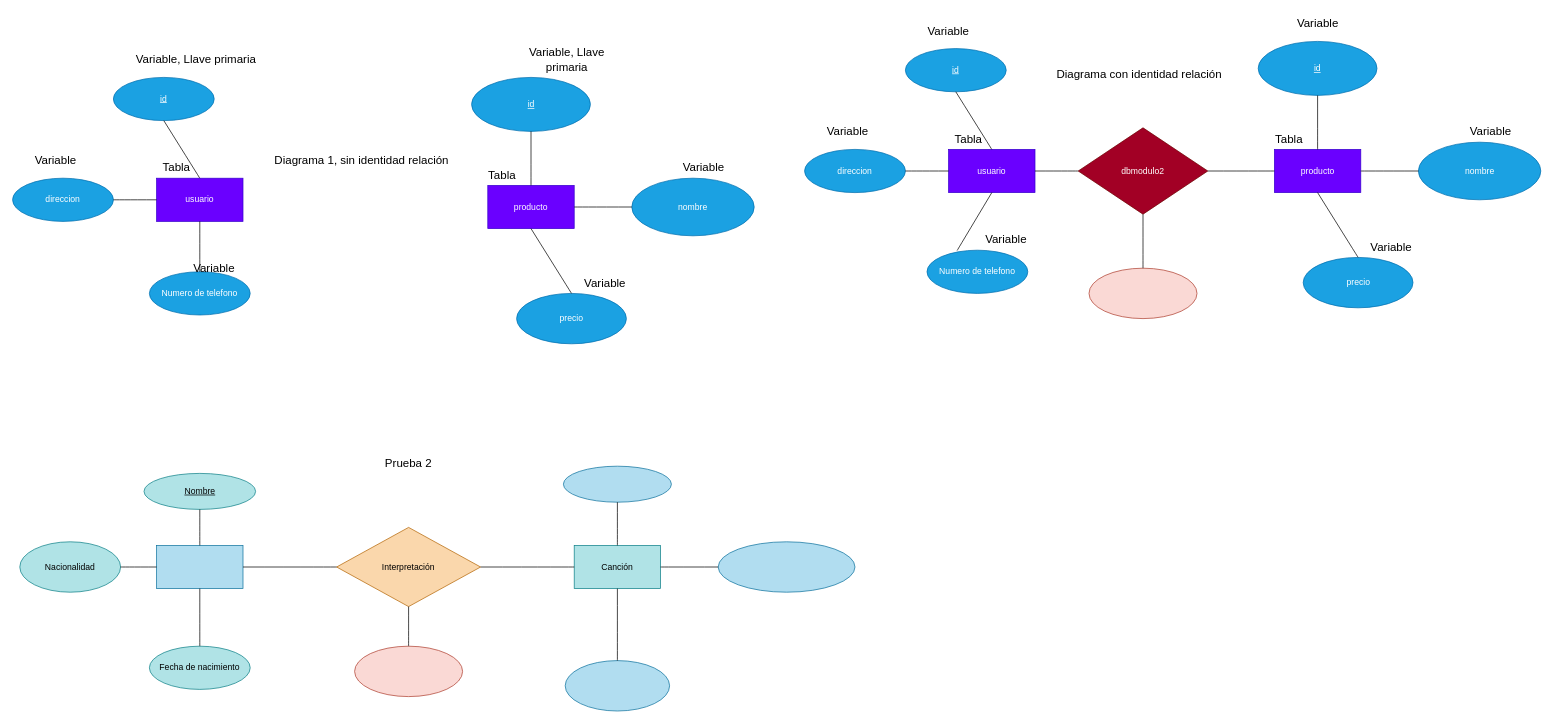
Some shapes in this 1554 by 724 pixel diagram are drawn without their labels. Here are the shapes that lost their labels. From the top down, the centre of each, then its label:
At point 1142,293: "Factura".
At point 617,483: "Tema".
At point 199,567: "Cantante".
At point 786,566: "Fecha de publicación".
At point 408,671: "Rol / Performance".
At point 617,685: "Género".
